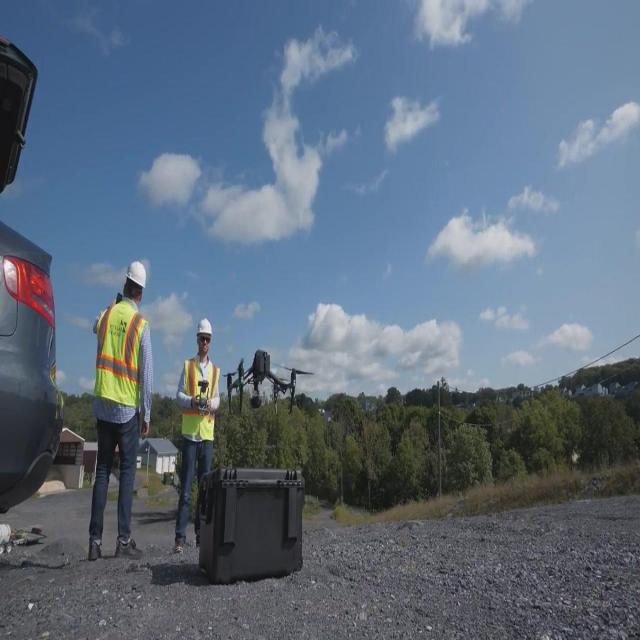Reflective-Jacket: (85, 298, 159, 434), (172, 356, 226, 454)
Safety-Helmet: (120, 250, 154, 301), (192, 309, 220, 352)
